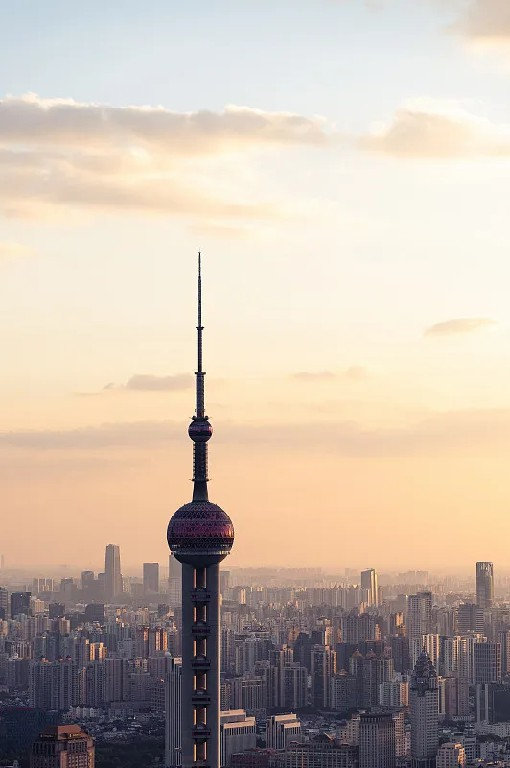Oriental: (166, 252, 234, 768)
